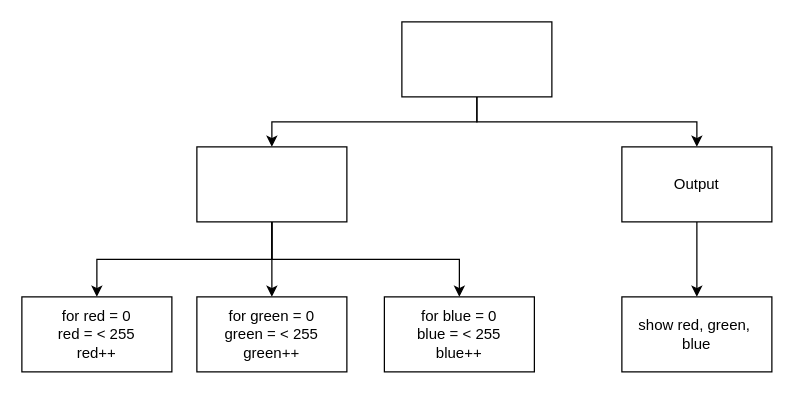
Image size: 794x394. Some labels were removed from this diagram. Here are the shapes that lost their labels. From the top down, the centre of each, then its label:
At (x=476, y=59): "RGB".
At (x=271, y=184): "Process".
